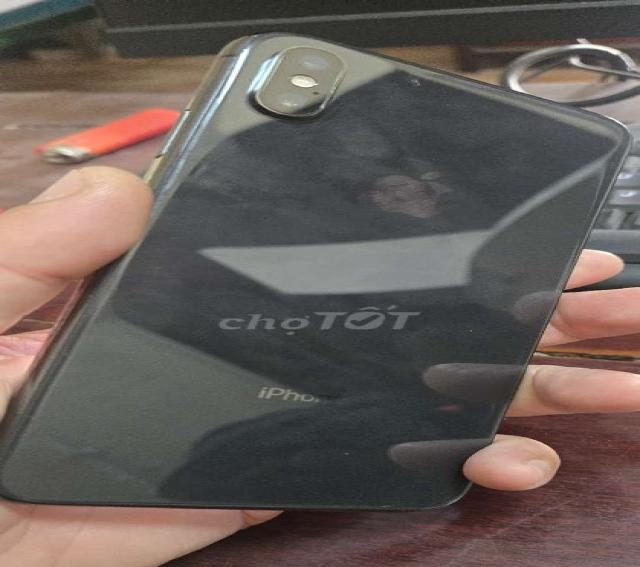scratch: (384, 66, 448, 94)
